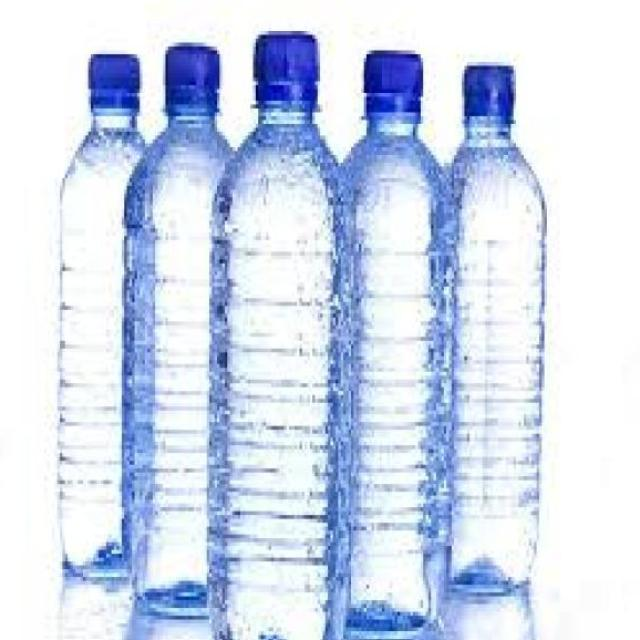plastik: (210, 32, 344, 640), (124, 45, 231, 616), (344, 52, 447, 639), (451, 66, 546, 594), (59, 55, 145, 581)
